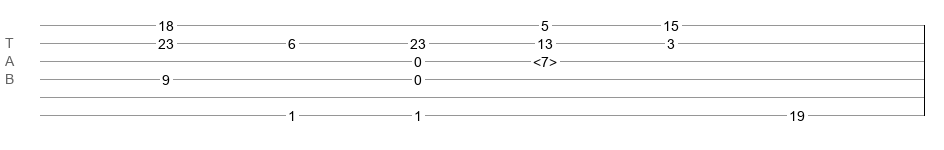0: (414, 54, 422, 64), (414, 72, 422, 82)
1: (288, 108, 296, 118), (414, 108, 422, 118)
13: (537, 36, 553, 46)
15: (663, 18, 679, 28)
18: (158, 18, 174, 28)
19: (789, 108, 805, 118)
23: (158, 36, 174, 46), (410, 36, 426, 46)
3: (667, 36, 675, 46)
5: (541, 18, 549, 28)
6: (288, 36, 296, 46)
9: (162, 72, 170, 82)
harmonic: (533, 54, 557, 64)
